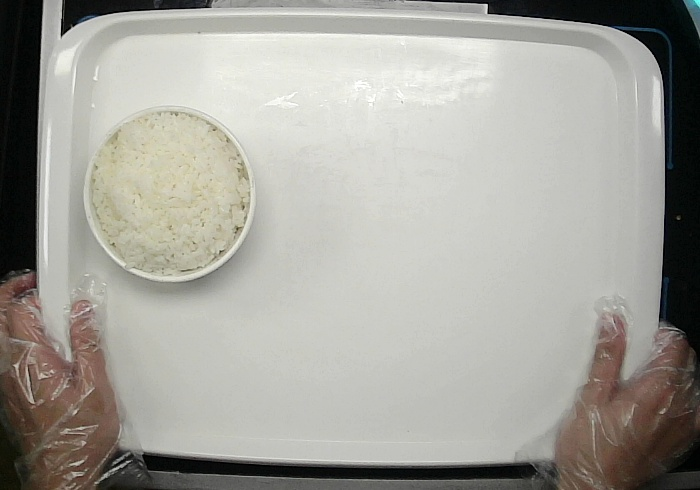HZYJPL-Fan_Wan: (80, 103, 259, 283)
